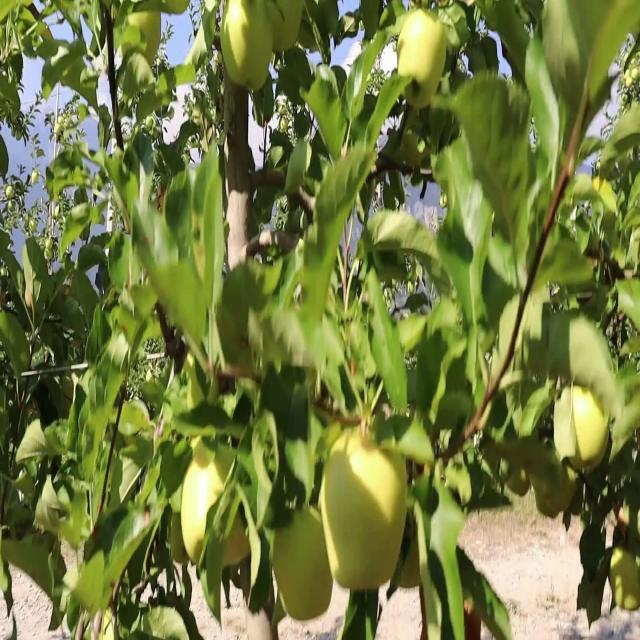apple: (178, 449, 233, 569), (400, 7, 450, 98), (224, 0, 273, 92), (184, 455, 224, 567), (556, 383, 604, 475), (224, 1, 264, 91), (568, 391, 609, 475), (533, 462, 579, 519), (184, 348, 219, 418), (400, 506, 426, 592), (608, 547, 640, 612), (128, 7, 164, 64), (221, 504, 251, 571), (223, 495, 248, 569), (268, 7, 303, 59), (404, 115, 431, 172), (396, 535, 422, 592), (128, 56, 154, 96), (504, 462, 531, 500), (620, 497, 640, 546), (408, 85, 435, 119), (224, 55, 248, 91), (172, 519, 189, 567), (165, 0, 190, 18), (164, 7, 188, 20)
